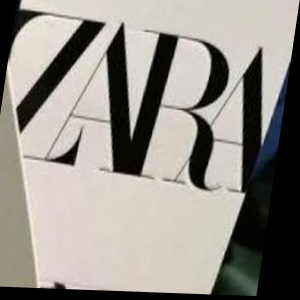zara: (289, 22, 295, 46)
